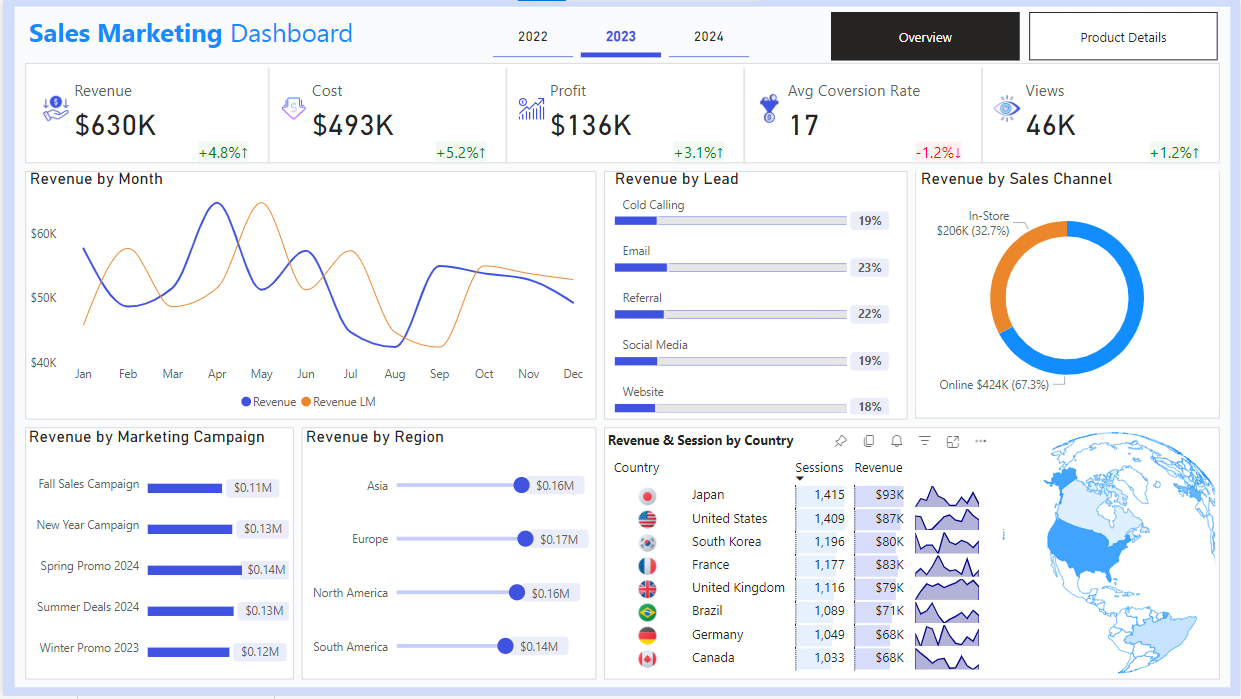

Layout of this report page (visuals, bound fields, positions):
{"tool":"powerbi","page":{"name":"Overview","canvas":[1280,720],"ordinal":0},"visuals":[{"type":"advancedSlicerVisual","fields":{"Values":["Calendar.Year"]},"box":[501.9,9.7,275.3,55.4],"z":0},{"type":"cardVisual","fields":{"Data":["All Measures.Revenue","All Measures.Cost","All Measures.Profit","All Measures.Avg Coversion Rate","All Measures.Views"]},"box":[22.4,65.2,1235.3,109.9],"z":1000},{"type":"lineChart","title":"Revenue by Month","fields":{"Y":["All Measures.Revenue","All Measures.Revenue LM"],"Category":["Calendar.Month"]},"box":[22.4,175.1,590.4,258.7],"z":2000},{"type":"clusteredBarChart","title":"Revenue by Lead","fields":{"Y":["All Measures.Base zero","All Measures.Rev % of Lead","All Measures.Whole"],"Category":["dimLeadSource.Lead Source"]},"box":[627.8,174.7,307.3,259],"z":3000},{"type":"donutChart","fields":{"Y":["All Measures.Revenue"],"Category":["dimChannel.Sales Channel"]},"box":[944.8,174.7,312.6,247.6],"z":4000},{"type":"clusteredBarChart","title":"Revenue by Marketing Campaign","fields":{"Y":["All Measures.Blank1","All Measures.Revenue"],"Category":["dimMarketingCampagin.Marketing Campaign"]},"box":[22,441.7,279.2,261.7],"z":5000},{"type":"clusteredBarChart","title":"Revenue by Region","fields":{"Y":["All Measures.Blank1","All Measures.Revenue","All Measures.Blank2"],"Category":["dimCountry.Region"]},"box":[308.2,441.7,303.8,261.7],"z":6000},{"type":"tableEx","fields":{"Values":["dimCountry.Country Flag.flag","dimCountry.Country","All Measures.Sessions","All Measures.Revenue","All Measures.Revenue Sparkline"]},"box":[620.8,468.9,403.9,234.4],"z":7000},{"type":"shapeMap","fields":{"Value":["All Measures.Revenue"],"Category":["dimCountry.Country"]},"box":[1017.7,441.7,240.6,262.5],"z":8000},{"type":"textbox","box":[22,9.7,453.1,55.3],"z":9000},{"type":"textbox","box":[620.8,441.7,208.1,27.2],"z":10000},{"type":"pageNavigator","box":[857,12.3,400.4,50],"z":11000}]}

Visuals, with their boxes in screenshot pixels (x1, y1, x2, y2), scaled from the page's 1280x720 canvas onto the 1241x699 screenshot:
advancedSlicerVisual - Calendar.Year: <box>487,9,754,63</box>
cardVisual - All Measures.Revenue x All Measures.Cost: <box>22,63,1219,170</box>
"Revenue by Month" lineChart: <box>22,170,594,421</box>
"Revenue by Lead" clusteredBarChart: <box>609,170,907,421</box>
donutChart - All Measures.Revenue x dimChannel.Sales Channel: <box>916,170,1219,410</box>
"Revenue by Marketing Campaign" clusteredBarChart: <box>21,429,292,683</box>
"Revenue by Region" clusteredBarChart: <box>299,429,593,683</box>
tableEx - dimCountry.Country Flag.flag x dimCountry.Country: <box>602,455,993,683</box>
shapeMap - All Measures.Revenue x dimCountry.Country: <box>987,429,1220,684</box>
textbox: <box>21,9,461,63</box>
textbox: <box>602,429,804,455</box>
pageNavigator: <box>831,12,1219,60</box>
